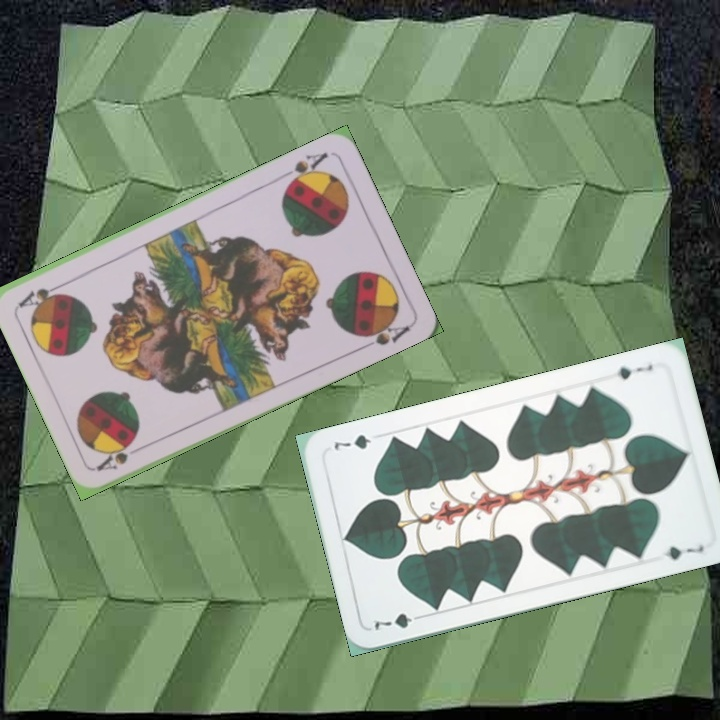G7: (369, 609, 427, 633), (613, 359, 655, 382)
SA: (276, 148, 331, 190), (93, 438, 148, 474)
